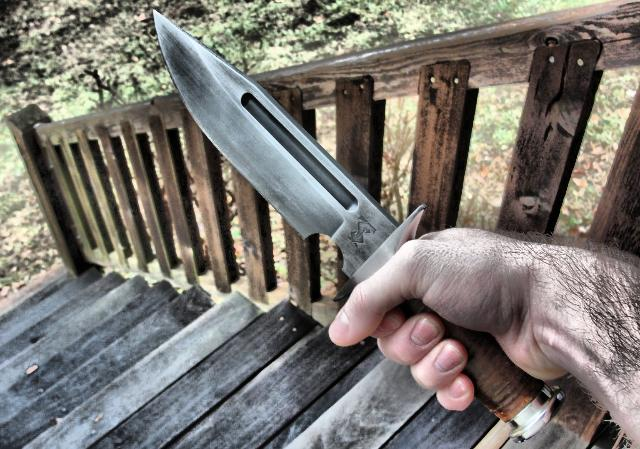knife: (142, 4, 466, 372)
